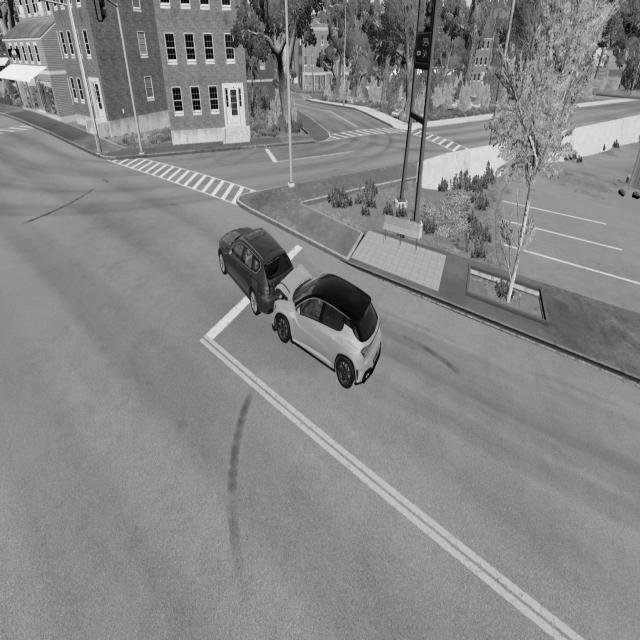accident: (218, 220, 383, 394)
